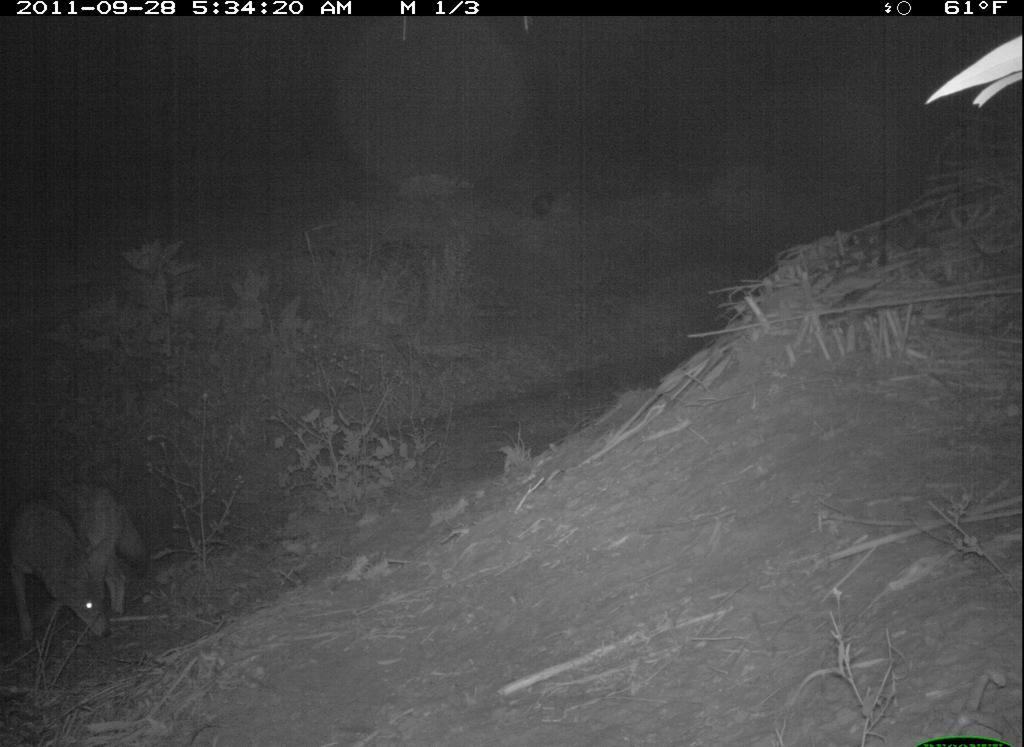coyote: (12, 472, 172, 655)
